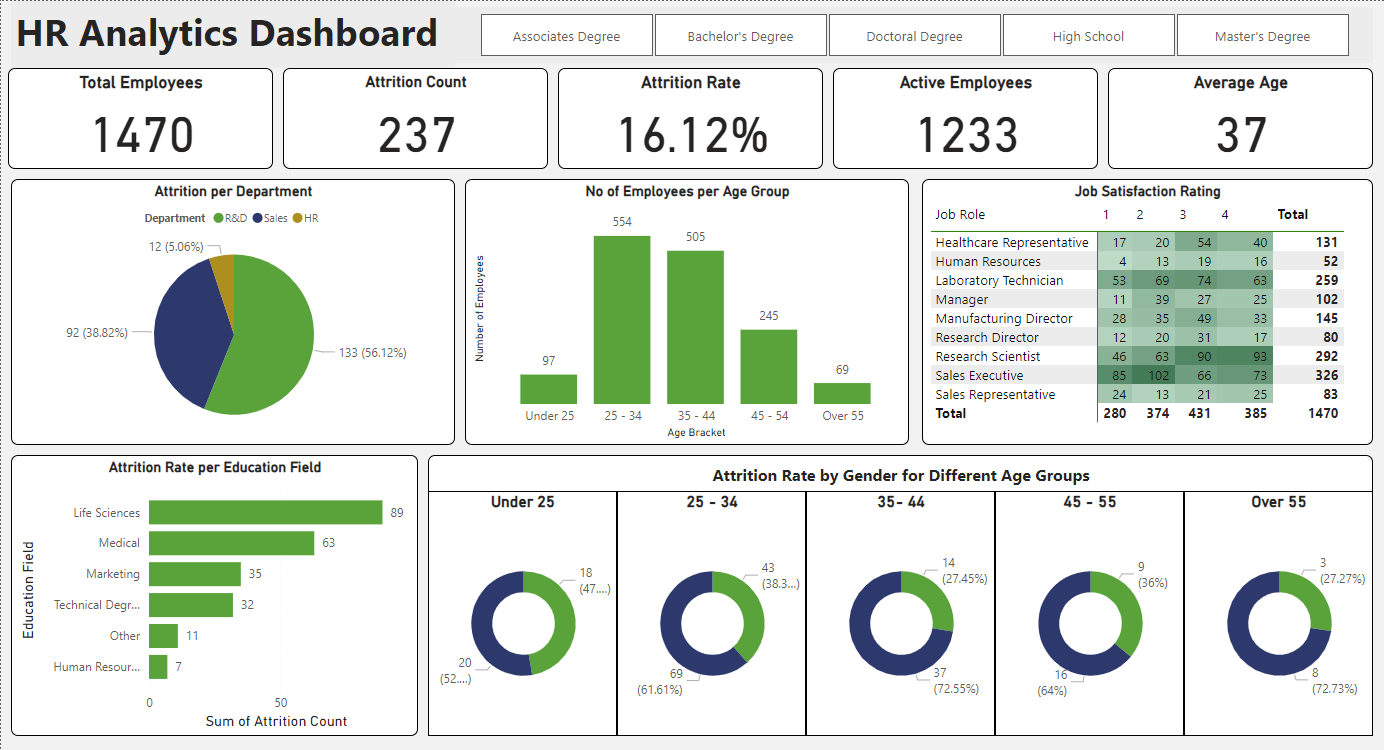

Layout of this report page (visuals, bound fields, positions):
{"tool":"powerbi","page":{"name":"Page 1","canvas":[1385,750],"ordinal":0},"visuals":[{"type":"textbox","box":[427,454,945,49],"z":500},{"type":"textbox","box":[10,0,444,67],"z":1000},{"type":"slicer","fields":{"Values":["Table_1.Education"]},"box":[454,6,918,56],"z":2000},{"type":"card","title":"Total Employees","fields":{"Values":["Table_1.Total Employees"]},"box":[7,67,265,101],"z":3000},{"type":"card","title":"Average Age","fields":{"Values":["Table_1.Average Age"]},"box":[1107,67,265,101],"z":4000},{"type":"card","title":"Attrition Rate","fields":{"Values":["HR_Data.Attrition Rate"]},"box":[557,67,265,101],"z":5000},{"type":"card","title":"Attrition Count","fields":{"Values":["Sum(Table_1.Attrition Count)"]},"box":[282,67,265,101],"z":6000},{"type":"card","title":"Active Employees","fields":{"Values":["HR_Data.Active Employees"]},"box":[832,67,265,101],"z":7000},{"type":"pieChart","title":"Attrition per Department","fields":{"Category":["HR_Data.Department"],"Y":["Sum(HR_Data.Attrition Count)"]},"box":[10,178,444,266],"z":8000},{"type":"columnChart","title":"No of Employees per Age Group","fields":{"Category":["HR_Data.CF_age band"],"Y":["HR_Data.Total Employees"]},"box":[464,178,444,266],"z":9000},{"type":"pivotTable","title":"Job Satisfaction Rating","fields":{"Rows":["HR_Data.Job Role"],"Columns":["HR_Data.Job Satisfaction"],"Values":["Sum(HR_Data.Employee Count)"]},"box":[921,178,451,266],"z":10000},{"type":"barChart","title":"Attrition Rate per Education Field","fields":{"Category":["HR_Data.Education Field"],"Y":["Sum(HR_Data.Attrition Count)"]},"box":[10,454,407,281],"z":11000},{"type":"donutChart","title":"Under 25","fields":{"Category":["HR_Data.Gender"],"Series":["HR_Data.CF_age band"],"Y":["Sum(HR_Data.Attrition Count)"]},"box":[427,490,189,245],"z":12000},{"type":"donutChart","title":"25 - 34","fields":{"Category":["HR_Data.Gender"],"Series":["HR_Data.CF_age band"],"Y":["Sum(HR_Data.Attrition Count)"]},"box":[616,490,189,245],"z":13000},{"type":"donutChart","title":"35- 44","fields":{"Category":["HR_Data.Gender"],"Series":["HR_Data.CF_age band"],"Y":["Sum(HR_Data.Attrition Count)"]},"box":[805,490,189,245],"z":14000},{"type":"donutChart","title":"45 - 55","fields":{"Category":["HR_Data.Gender"],"Series":["HR_Data.CF_age band"],"Y":["Sum(HR_Data.Attrition Count)"]},"box":[994,490,189,245],"z":15000},{"type":"donutChart","title":"Over 55","fields":{"Category":["HR_Data.Gender"],"Series":["HR_Data.CF_age band"],"Y":["Sum(HR_Data.Attrition Count)"]},"box":[1183,490,189,245],"z":16000}]}

Visuals, with their boxes in screenshot pixels (x1, y1, x2, y2), scaled from the page's 1385x750 canvas onto the 1384x750 screenshot:
textbox: rect(427, 454, 1371, 503)
textbox: rect(10, 0, 454, 67)
slicer - Table_1.Education: rect(454, 6, 1371, 62)
"Total Employees" card: rect(7, 67, 272, 168)
"Average Age" card: rect(1106, 67, 1371, 168)
"Attrition Rate" card: rect(557, 67, 821, 168)
"Attrition Count" card: rect(282, 67, 547, 168)
"Active Employees" card: rect(831, 67, 1096, 168)
"Attrition per Department" pieChart: rect(10, 178, 454, 444)
"No of Employees per Age Group" columnChart: rect(464, 178, 907, 444)
"Job Satisfaction Rating" pivotTable: rect(920, 178, 1371, 444)
"Attrition Rate per Education Field" barChart: rect(10, 454, 417, 735)
"Under 25" donutChart: rect(427, 490, 616, 735)
"25 - 34" donutChart: rect(616, 490, 804, 735)
"35- 44" donutChart: rect(804, 490, 993, 735)
"45 - 55" donutChart: rect(993, 490, 1182, 735)
"Over 55" donutChart: rect(1182, 490, 1371, 735)
